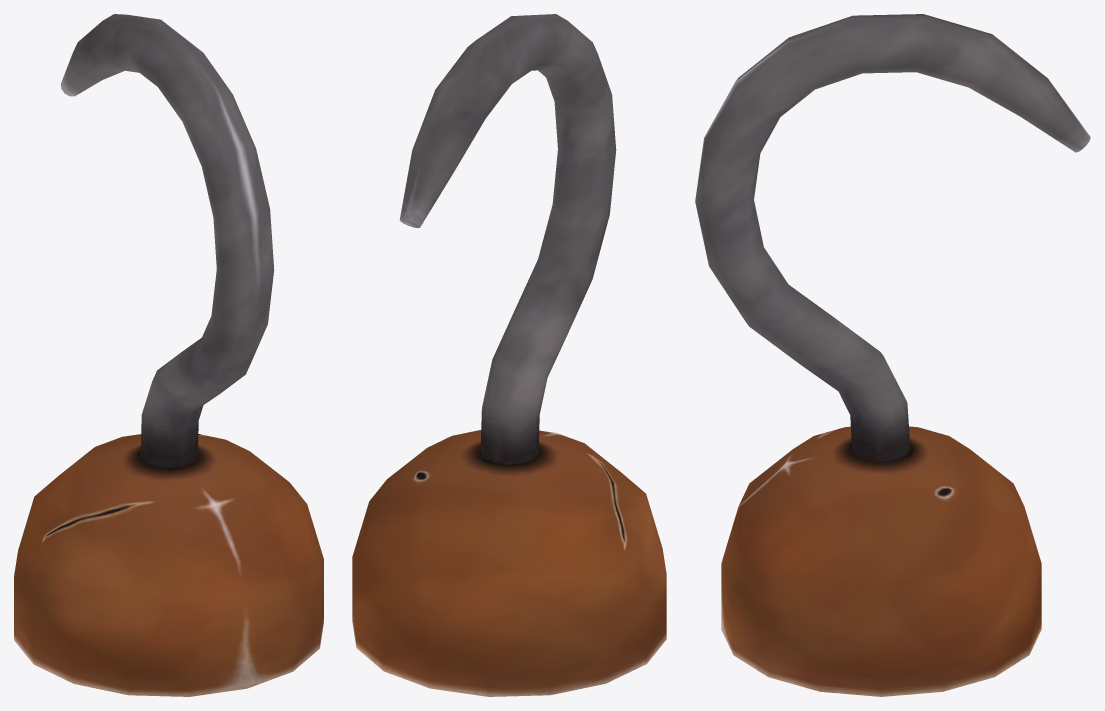
The model's file is hook.glb.
3 views of the same model, side by side, from view 1: azimuth 30°, elevation 25°; view 2: azimuth 150°, elevation 25°; view 3: azimuth 270°, elevation 25° (orthographic). The views are drawn at different scales.
Parts seen in each view (by area): view 1: hook; view 2: hook; view 3: hook.
Boxes of the visible parts, left/top/right/bottom form: hook: left=14, top=14, right=323, bottom=696; hook: left=352, top=14, right=666, bottom=696; hook: left=695, top=14, right=1090, bottom=696.
Bounding box in the file's own units: 1.2 × 2.53 × 1.48.
Materials: 1 (1 with a texture image).
